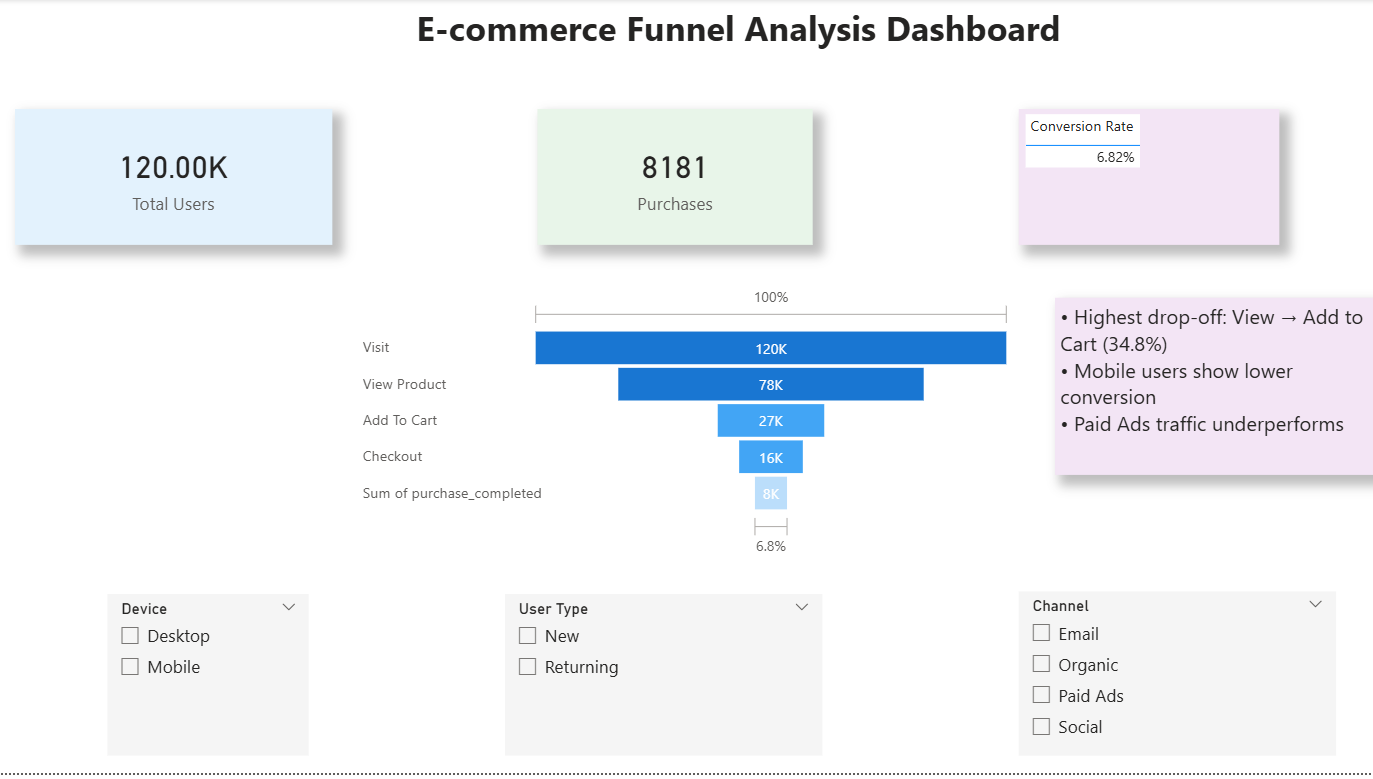

The page's visual inventory and layout, read from the dashboard file:
{"tool":"powerbi","page":{"name":"Page 1","canvas":[1280,720],"ordinal":0},"visuals":[{"type":"card","fields":{"Values":["CountNonNull(d2c_marketing_funnel_data.user_id)"]},"box":[13.8,102.5,295,126.2],"z":0},{"type":"funnel","fields":{"Y":["Sum(d2c_marketing_funnel_data.visited_website)","Sum(d2c_marketing_funnel_data.viewed_product)","Sum(d2c_marketing_funnel_data.added_to_cart)","Sum(d2c_marketing_funnel_data.checkout_started)","Sum(d2c_marketing_funnel_data.purchase_completed)"]},"box":[333.1,261.2,613.8,261.2],"z":1000},{"type":"card","fields":{"Values":["Sum(d2c_marketing_funnel_data.purchase_completed)"]},"box":[500,102.5,256.2,126.2],"z":2000},{"type":"tableEx","fields":{"Values":["d2c_marketing_funnel_data.Conversion Rate"]},"box":[947.5,102.5,242.5,126.2],"z":3000},{"type":"slicer","fields":{"Values":["d2c_marketing_funnel_data.device"]},"box":[100,553.8,187.5,150],"z":4000},{"type":"slicer","fields":{"Values":["d2c_marketing_funnel_data.channel"]},"box":[947.5,551.2,295,152.5],"z":5000},{"type":"slicer","fields":{"Values":["d2c_marketing_funnel_data.user_type"]},"box":[470,553.8,295,150],"z":6000},{"type":"textbox","box":[382.5,0,695,85],"z":7000},{"type":"textbox","box":[981.2,277.5,298.8,165],"z":9000}]}

Visuals, with their boxes in screenshot pixels (x1, y1, x2, y2), scaled from the page's 1280x720 canvas onto the 1373x779 screenshot:
card - CountNonNull(d2c_marketing_funnel_data.user_id): rect(15, 111, 331, 247)
funnel - Sum(d2c_marketing_funnel_data.visited_website) x Sum(d2c_marketing_funnel_data.viewed_product): rect(357, 283, 1016, 565)
card - Sum(d2c_marketing_funnel_data.purchase_completed): rect(536, 111, 811, 247)
tableEx - d2c_marketing_funnel_data.Conversion Rate: rect(1016, 111, 1276, 247)
slicer - d2c_marketing_funnel_data.device: rect(107, 599, 308, 761)
slicer - d2c_marketing_funnel_data.channel: rect(1016, 596, 1333, 761)
slicer - d2c_marketing_funnel_data.user_type: rect(504, 599, 821, 761)
textbox: rect(410, 0, 1156, 92)
textbox: rect(1052, 300, 1372, 479)
